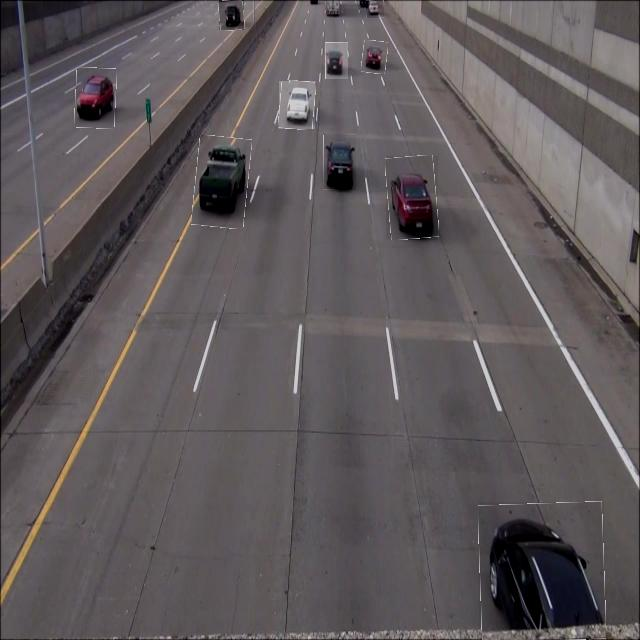Car: (479, 502, 604, 640), (386, 156, 438, 240), (75, 67, 117, 129), (323, 134, 356, 190), (279, 81, 315, 129), (362, 40, 388, 74), (325, 42, 348, 79), (219, 0, 244, 30), (366, 0, 384, 18)
Truck: (194, 136, 250, 228)
